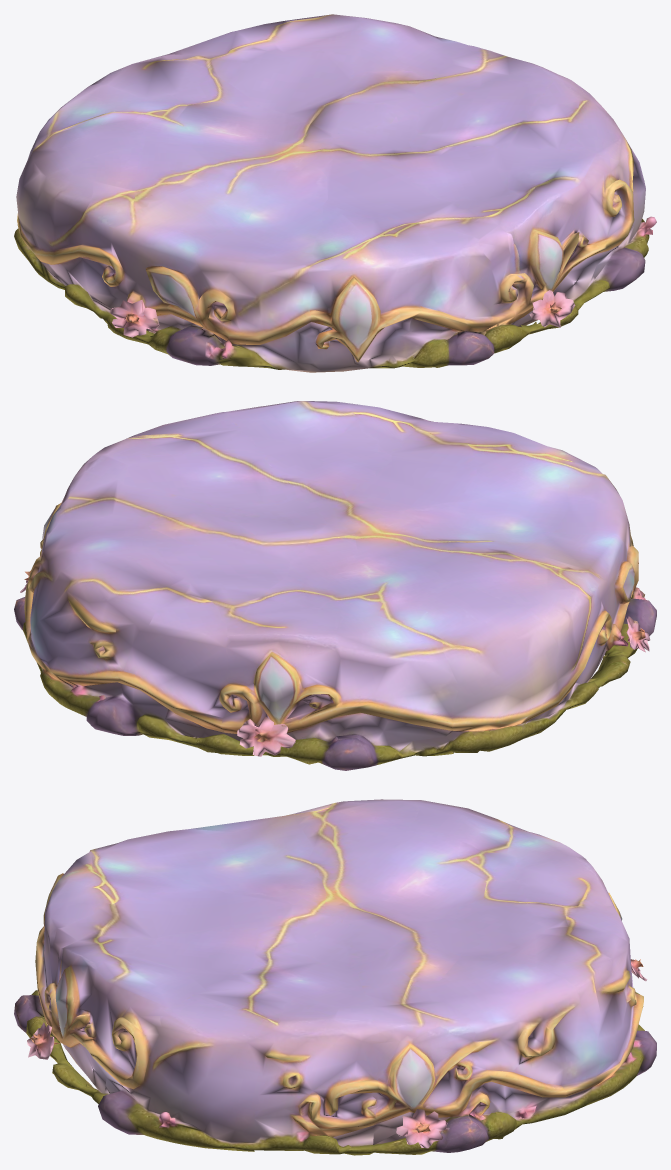
The model's file is stepping-stone.high.glb.
3 views of the same model, one above another, from view 1: azimuth 30°, elevation 25°; view 2: azimuth 150°, elevation 25°; view 3: azimuth 270°, elevation 25° (orthographic). The views are drawn at different scales.
Visible parts, largest first — view 1: tripo_node_f513c91a-b407-441a-9f11-361787d82c24; view 2: tripo_node_f513c91a-b407-441a-9f11-361787d82c24; view 3: tripo_node_f513c91a-b407-441a-9f11-361787d82c24.
Part boxes in pixels (x1,y1,x2,y2): tripo_node_f513c91a-b407-441a-9f11-361787d82c24: (14,14,656,372); tripo_node_f513c91a-b407-441a-9f11-361787d82c24: (14,401,656,770); tripo_node_f513c91a-b407-441a-9f11-361787d82c24: (14,799,656,1155).
Size of the model in its own units: 0.9991 by 0.2398 by 1.03.
1 material, 1 textured.
